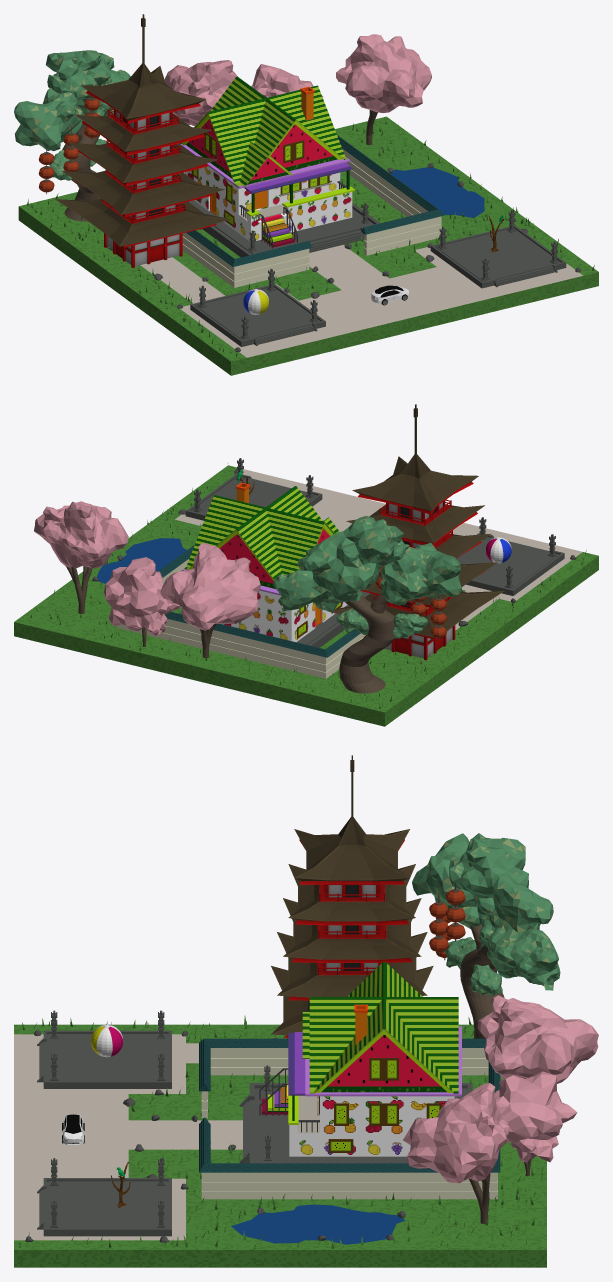
3 views of the same model, one above another, from view 1: azimuth 30°, elevation 25°; view 2: azimuth 150°, elevation 25°; view 3: azimuth 270°, elevation 25° (orthographic). The views are drawn at different scales.
Visible parts, largest first — view 1: Cube.005, Cube.1063, VEHICLES_TESLA, OBJRANDOM_BEACHBALL; view 2: Cube.005, Cube.1063, OBJRANDOM_BEACHBALL; view 3: Cube.005, Cube.1063, OBJRANDOM_BEACHBALL.
Part boxes in pixels (bbox=[...]): Cube.005: bbox=[14, 14, 598, 375]; Cube.1063: bbox=[179, 76, 354, 248]; VEHICLES_TESLA: bbox=[371, 285, 409, 305]; OBJRANDOM_BEACHBALL: bbox=[243, 289, 268, 314]; Cube.005: bbox=[14, 404, 598, 726]; Cube.1063: bbox=[181, 482, 347, 642]; OBJRANDOM_BEACHBALL: bbox=[486, 537, 511, 563]; Cube.005: bbox=[14, 755, 598, 1267]; Cube.1063: bbox=[259, 961, 461, 1156]; OBJRANDOM_BEACHBALL: bbox=[91, 1024, 122, 1057].
Bounding box in the file's own units: 4528 × 2791 × 4389.
Materials: 39 (7 with a texture image).
